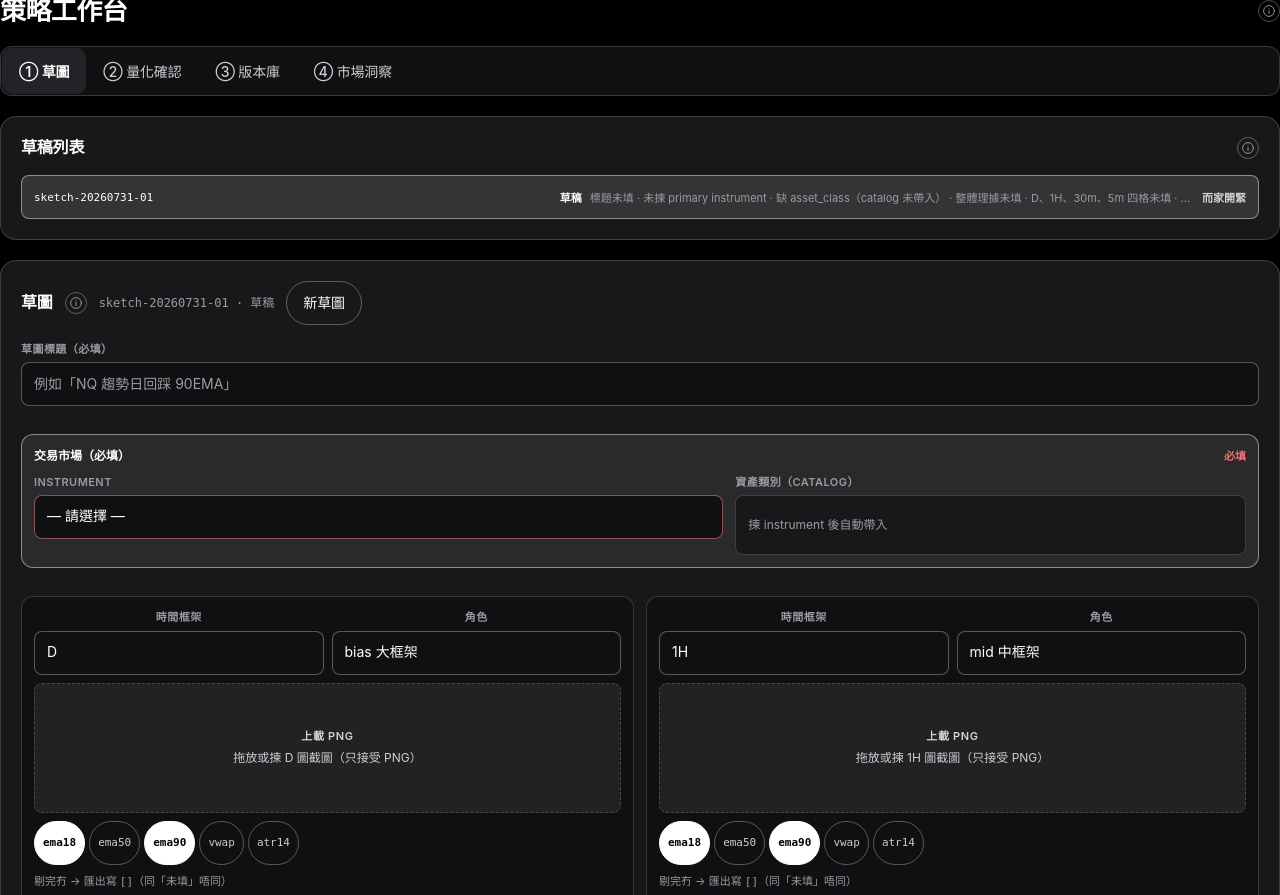
Test case: P2 strategy library legacy panels (tab ② / ③) › shows each validation issue and offers the verbatim paste-back text
Click the tab "② 量化確認": coordinates (142, 71) [87, 49, 198, 93]
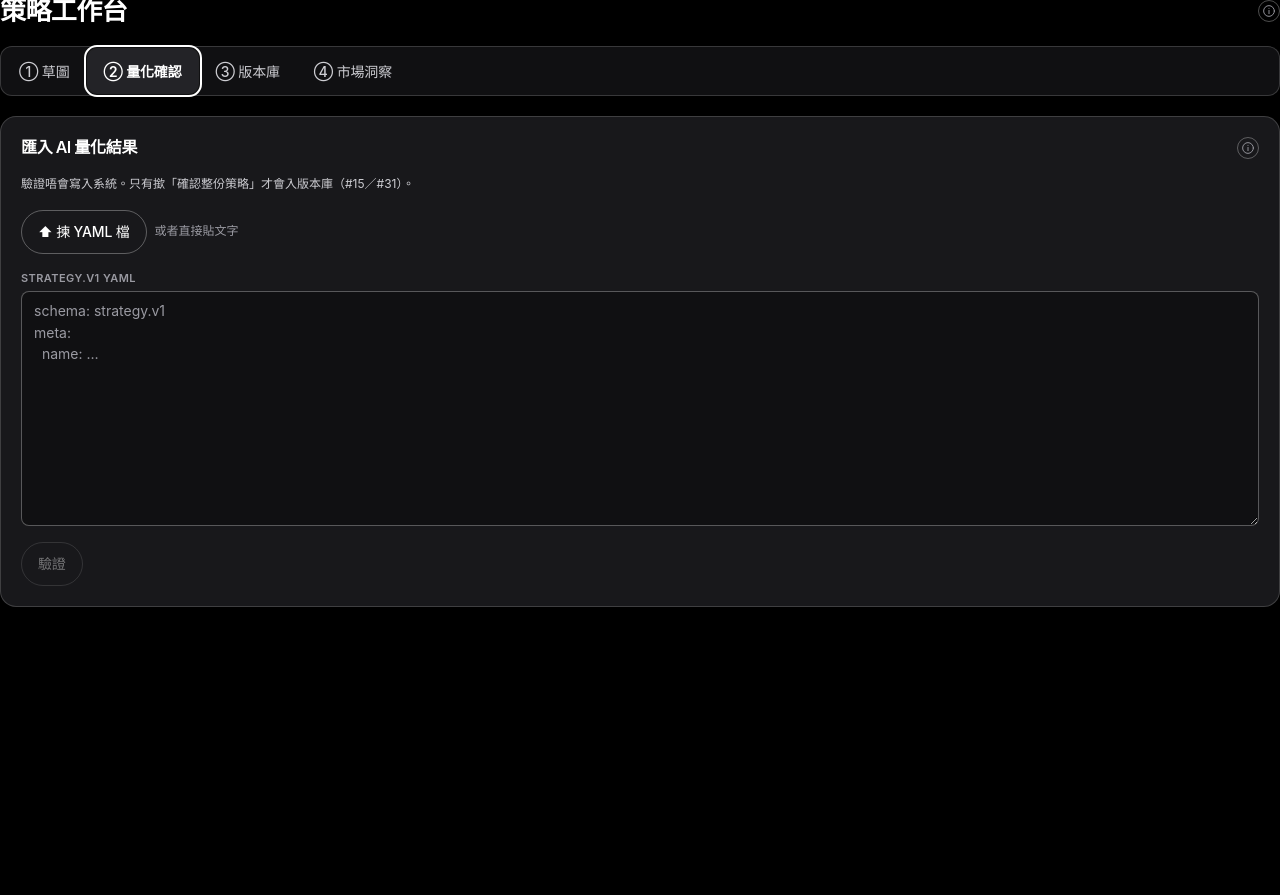
In the text box labelled "strategy.v1 YAML": coordinates (640, 408) [21, 291, 1259, 526], type "schema: strategy.v1"
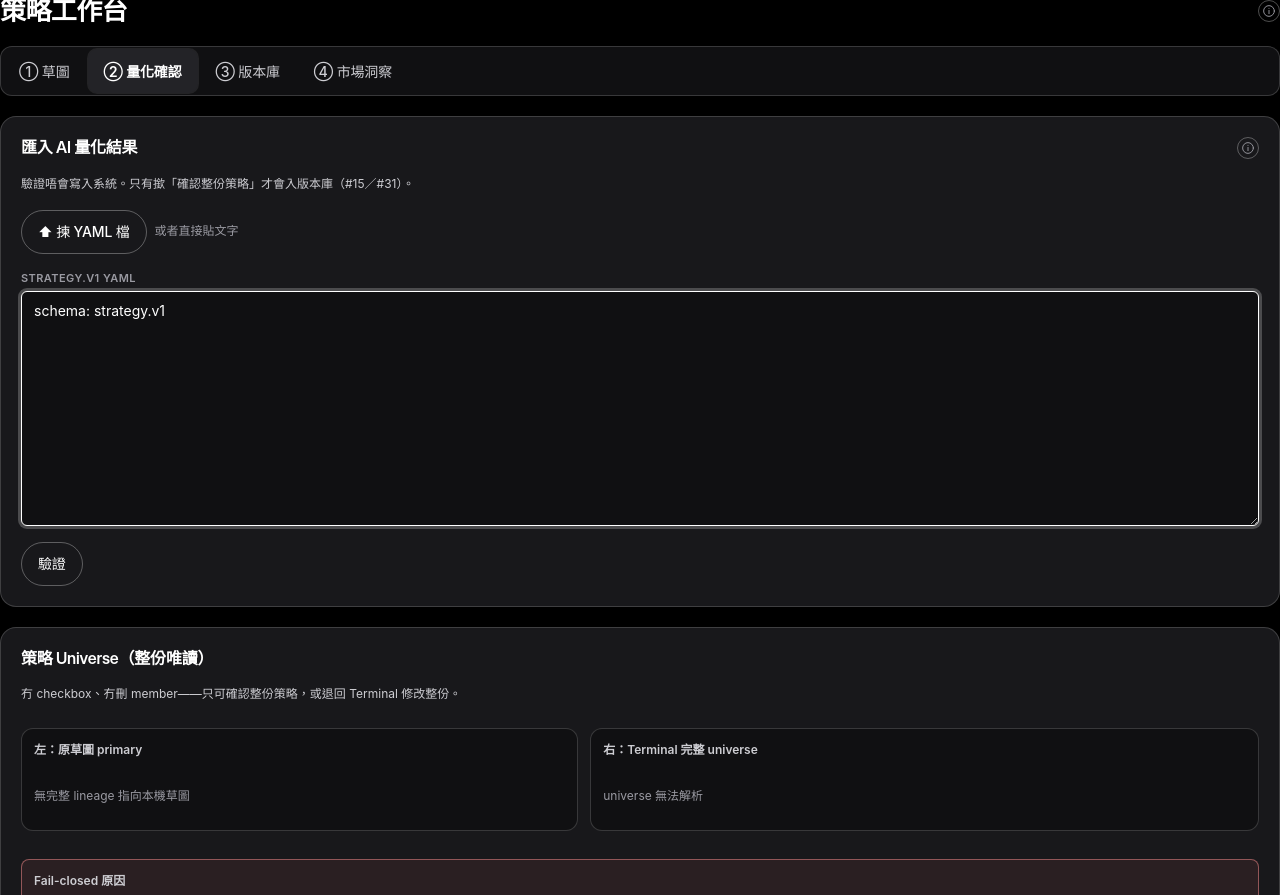
Click the button "驗證": coordinates (52, 564) [21, 542, 83, 586]
(page scrolled)
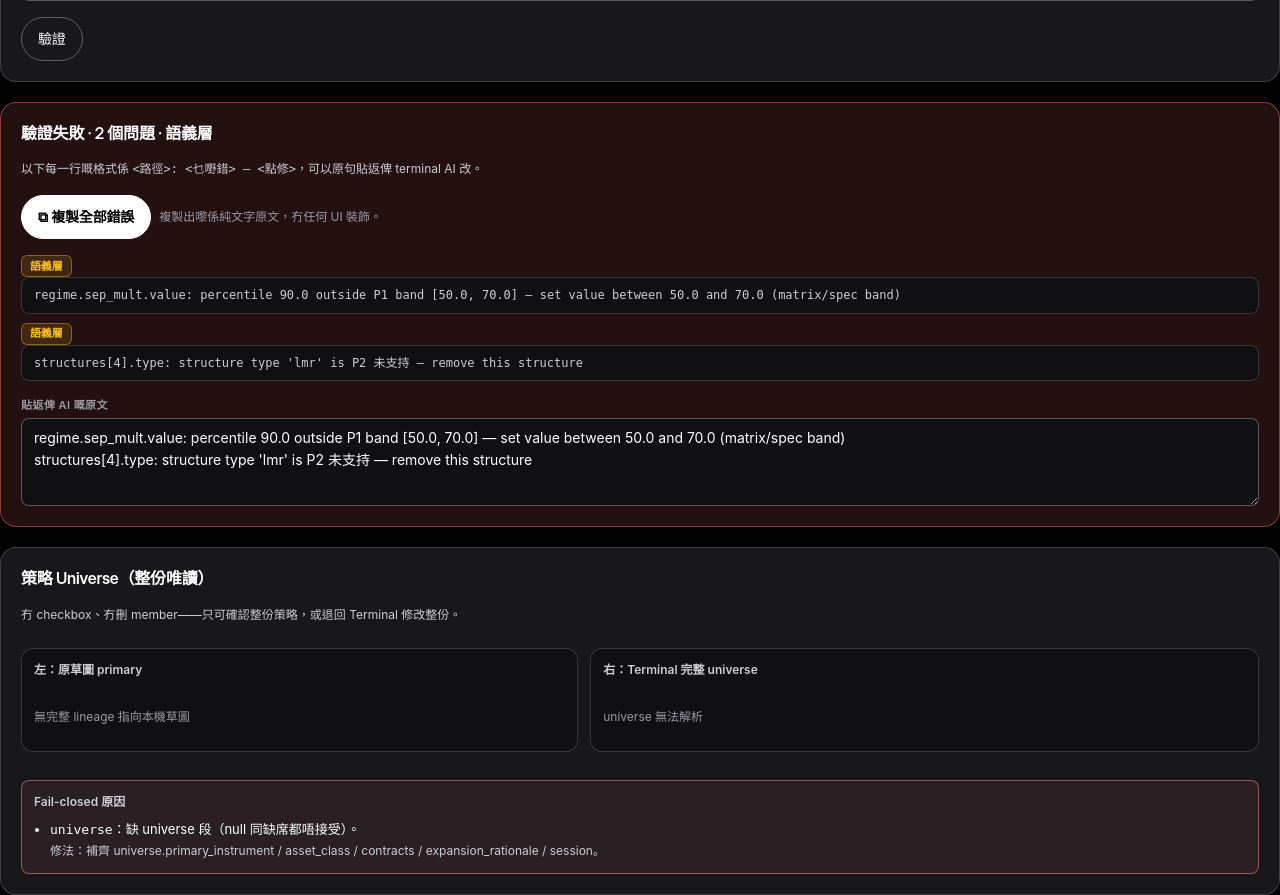
Result: the heading "驗證失敗 · 2 個問題 · 語義層" is shown at [21, 123, 213, 143]
